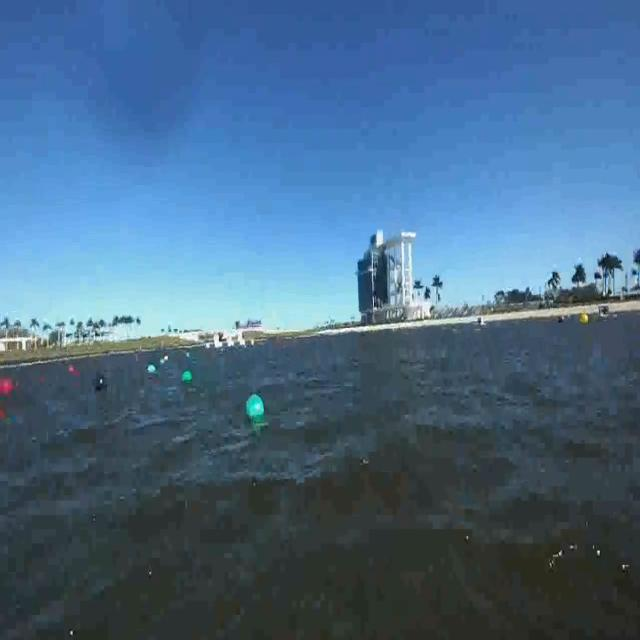black-buoy: (95, 374, 106, 389)
green-buoy: (242, 396, 263, 424), (182, 371, 192, 384)
red-buoy: (0, 379, 13, 394)
yellow-buoy: (582, 312, 590, 326)
